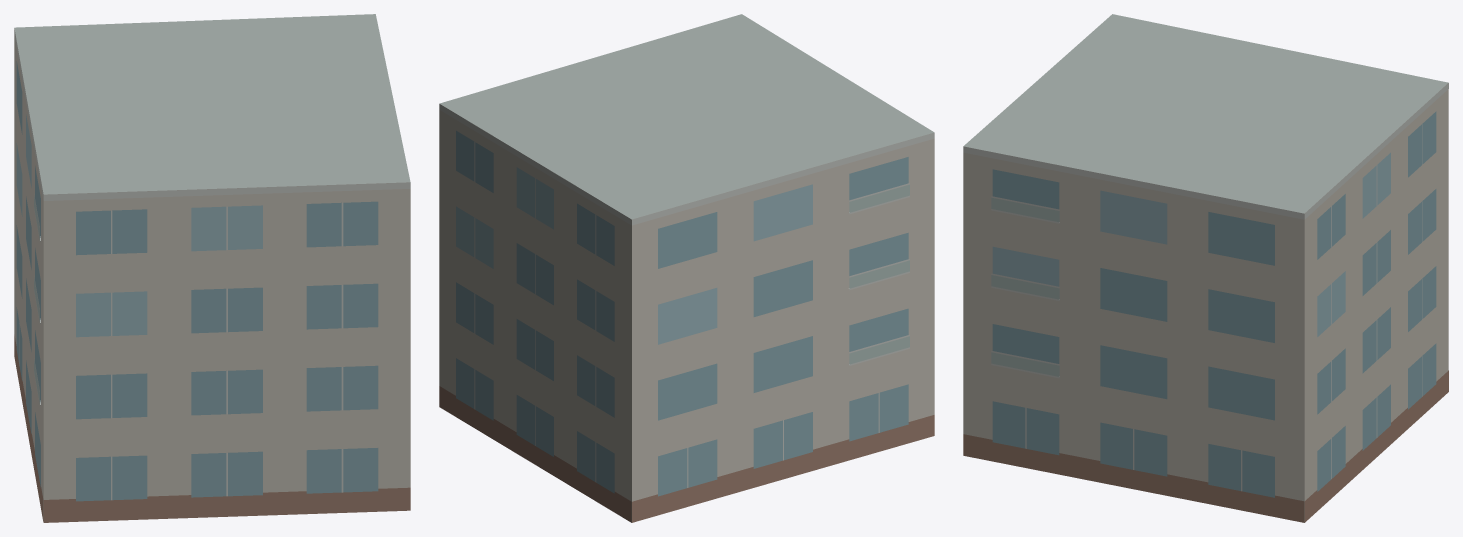
Rendered from residential-1f99dca6-f47f-4ae0-b213-9e5986ab66c3.glb.
The picture shows the model from 3 angles, left to right: view 1: azimuth 30°, elevation 25°; view 2: azimuth 150°, elevation 25°; view 3: azimuth 270°, elevation 25°; orthographic projection. The views are drawn at different scales.
Visible parts, largest first — view 1: residential-1f99dca6-f47f-4ae0-b213-9e5986ab66c3.tmp; view 2: residential-1f99dca6-f47f-4ae0-b213-9e5986ab66c3.tmp; view 3: residential-1f99dca6-f47f-4ae0-b213-9e5986ab66c3.tmp.
Part boxes in pixels (left/top/right/bottom): residential-1f99dca6-f47f-4ae0-b213-9e5986ab66c3.tmp: left=14, top=14, right=410, bottom=522; residential-1f99dca6-f47f-4ae0-b213-9e5986ab66c3.tmp: left=439, top=14, right=934, bottom=522; residential-1f99dca6-f47f-4ae0-b213-9e5986ab66c3.tmp: left=963, top=14, right=1448, bottom=522.
Bounding box in the file's own units: 16.89 × 12.2 × 17.37.
